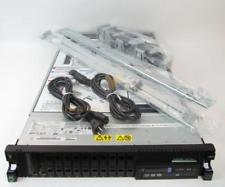ibm-server: (3, 141, 219, 183)
